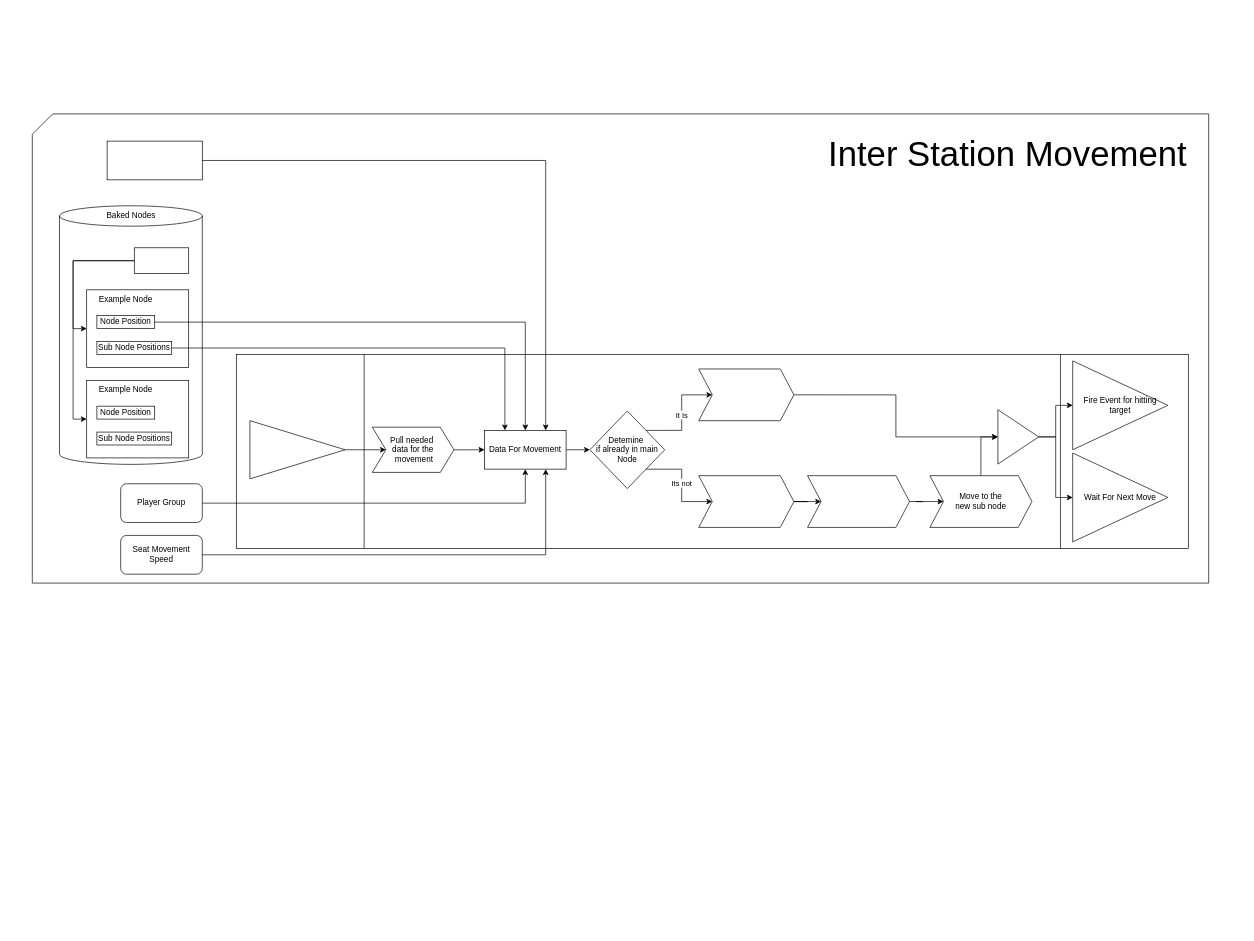
Some shapes in this 1254 by 941 pixel diagram are drawn without their labels. Here are the shapes that lost their labels. From the top down, the centre of each, then its label:
At [154,160]: "Current Node (we are currently Here)".
At [161,260]: "Node Stack (all the nodes)".
At [746,394]: "Just move to the new subnode".
At [297,449]: "Select New Location".
At [746,501]: "Move to the prior nodes main node".
At [858,501]: "Move to the new main node".
